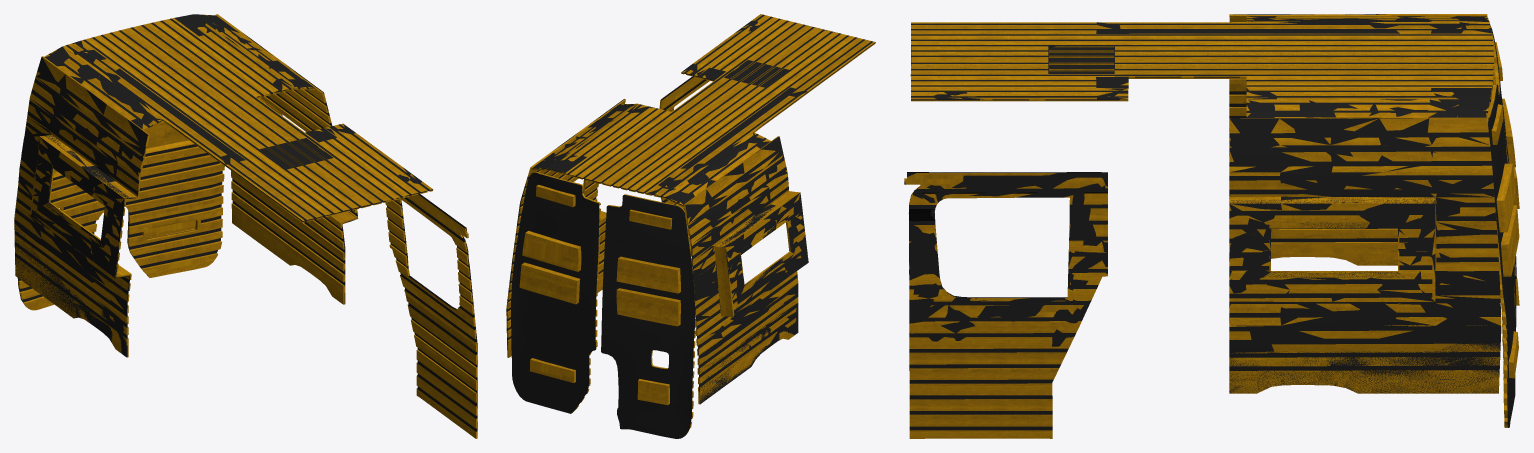
Rendered from wall-and-ceiling-six.glb.
The picture shows the model from 3 angles, left to right: view 1: azimuth 30°, elevation 25°; view 2: azimuth 150°, elevation 25°; view 3: azimuth 270°, elevation 25°; orthographic projection. The views are drawn at different scales.
Parts seen in each view (by area): view 1: polySurface6.001, polySurface4.001, BDwood.001, polySurface5.003; view 2: BDwood.001, polySurface6.001, polySurface4.001, polySurface5.003; view 3: polySurface4.001, polySurface6.001, polySurface5.003, BDwood.001.
Boxes of the visible parts, x1=… form: polySurface6.001: x1=44, y1=14, x2=433, y2=222; polySurface4.001: x1=14, y1=14, x2=358, y2=357; BDwood.001: x1=17, y1=121, x2=224, y2=310; polySurface5.003: x1=385, y1=193, x2=477, y2=438; BDwood.001: x1=511, y1=172, x2=696, y2=438; polySurface6.001: x1=532, y1=14, x2=875, y2=206; polySurface4.001: x1=506, y1=99, x2=808, y2=404; polySurface5.003: x1=659, y1=76, x2=709, y2=256; polySurface4.001: x1=1229, y1=14, x2=1501, y2=393; polySurface6.001: x1=910, y1=16, x2=1493, y2=117; polySurface5.003: x1=904, y1=172, x2=1107, y2=438; BDwood.001: x1=1487, y1=25, x2=1519, y2=427.
Bounding box in the file's own units: 1.87 × 1.95 × 3.39.
2 materials, 1 textured.
